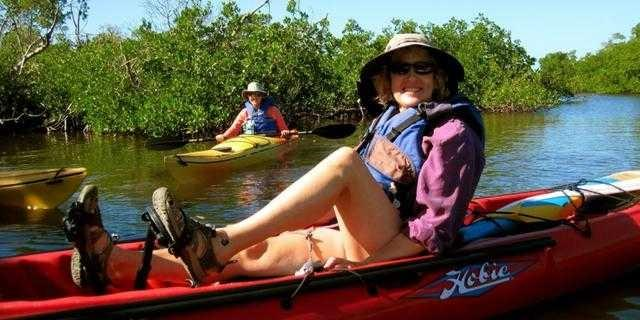kayak: (7, 180, 637, 317), (171, 132, 296, 167), (0, 167, 87, 213)
